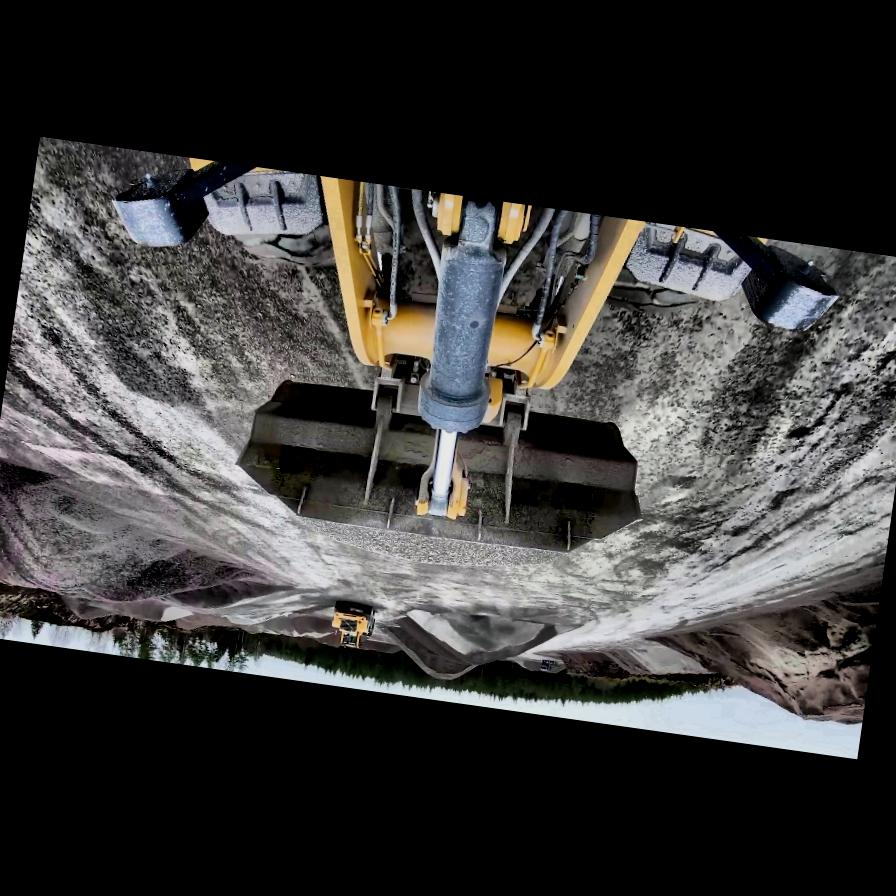anchor: (413, 433, 477, 523)
pile of gravel: (0, 459, 294, 632), (632, 560, 880, 731), (380, 600, 564, 694), (160, 567, 292, 626), (601, 636, 708, 684), (245, 605, 337, 645)
